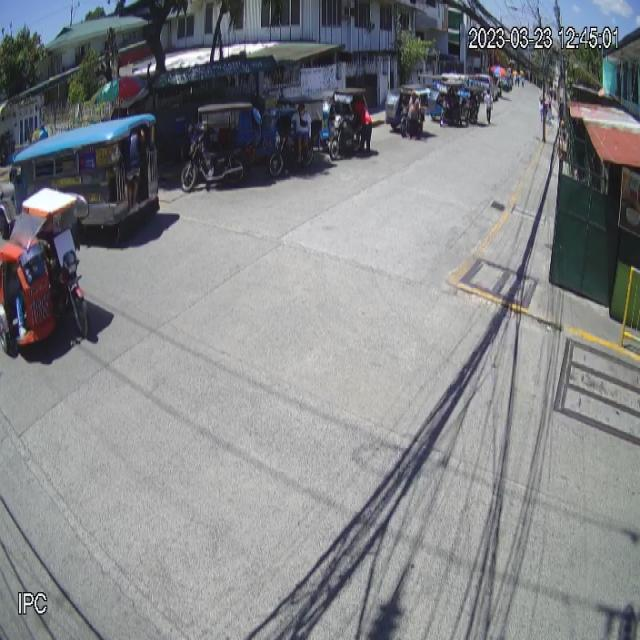Jeep: (0, 112, 160, 241)
Tricycle: (0, 187, 100, 351)
